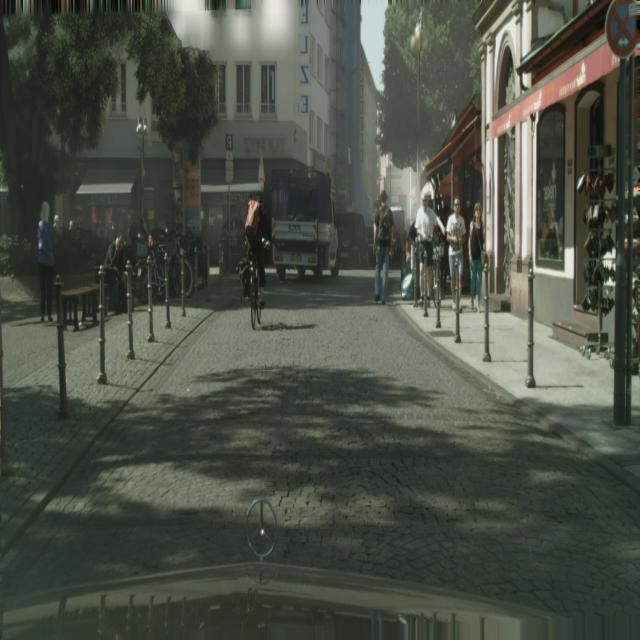car: (246, 197, 267, 330), (134, 233, 167, 304), (168, 231, 194, 298), (432, 240, 443, 324)
person: (414, 186, 445, 312), (372, 190, 395, 306), (37, 200, 56, 324), (446, 196, 466, 312), (468, 201, 486, 314)
rider: (270, 162, 340, 282)
